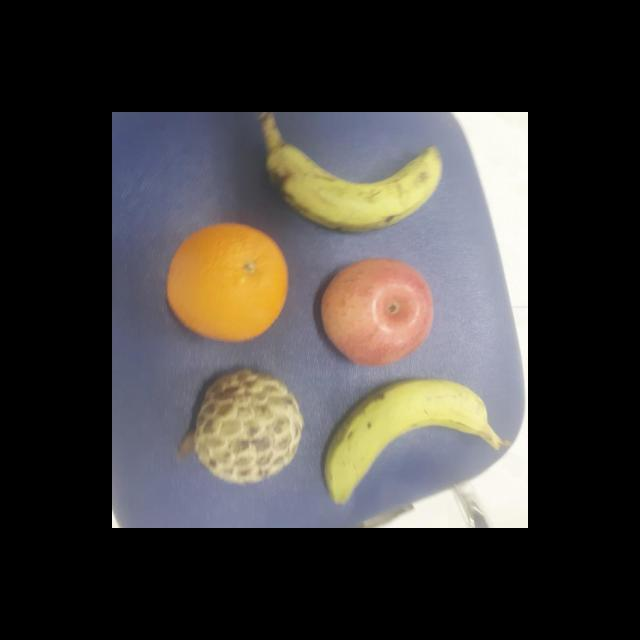Sakya fruit: (190, 369, 304, 487)
apple: (317, 256, 434, 370)
banana: (321, 375, 502, 503), (264, 136, 448, 238)
orange: (164, 222, 290, 343)
